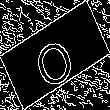O_NW: (30, 23, 80, 87)
